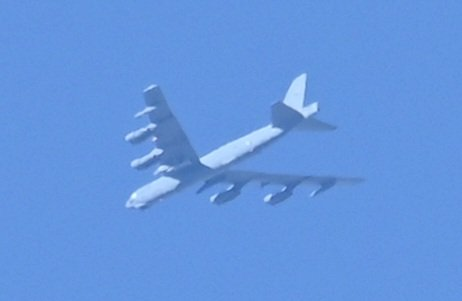B52: (123, 71, 369, 212)
